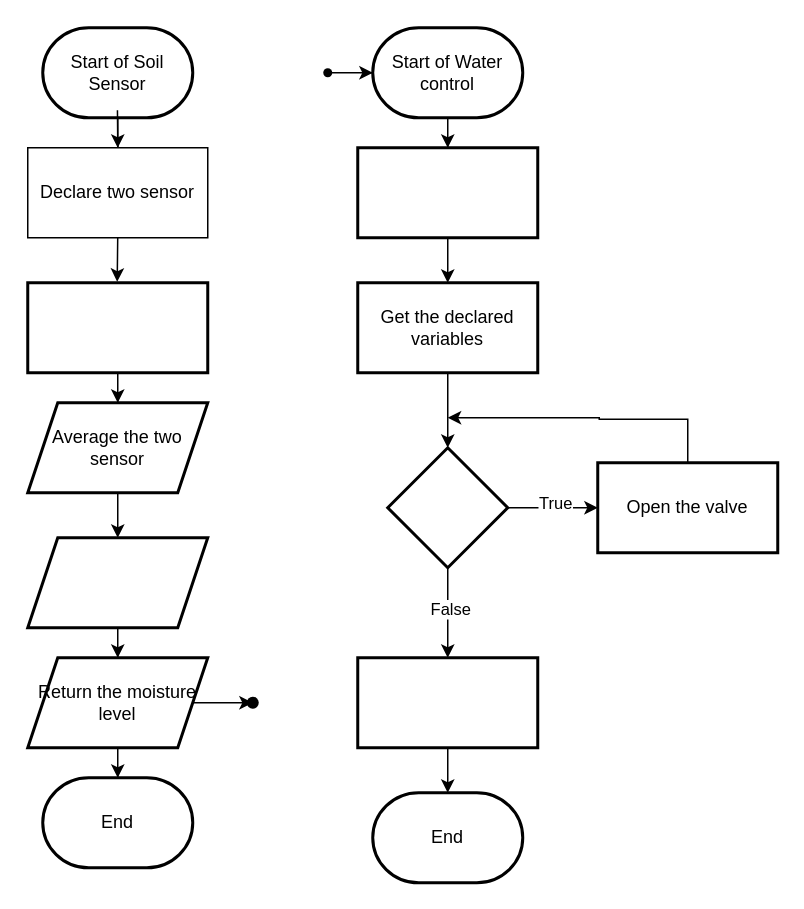
Some shapes in this 804 by 909 pixel diagram are drawn without their labels. Each missing label, with the centre of its shape:
"Close the valve" goes at (447,702).
"Declare moisture level, threshold of dry and wet" goes at (447,192).
"Get the two sensor" goes at (117,327).
"If moisture level is dry" goes at (447,507).
"Map the moisture level" goes at (117,582).
